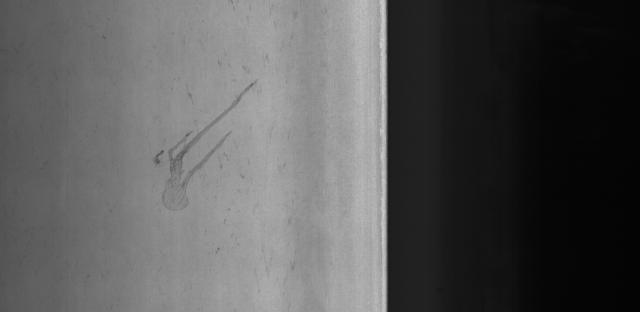water_spot: (134, 76, 262, 218)
